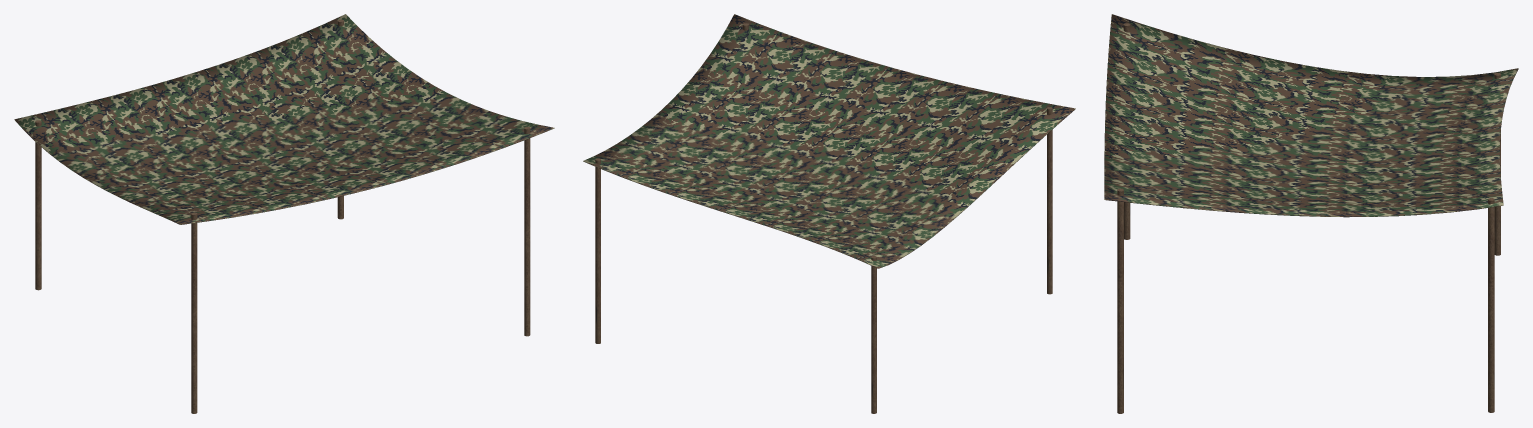
Rendered from tarp.glb.
3 renders of one model, left to right at view 1: azimuth 30°, elevation 25°; view 2: azimuth 150°, elevation 25°; view 3: azimuth 270°, elevation 25°, orthographic. The views are drawn at different scales.
Parts seen in each view (by area): view 1: SurfPatch, Post; view 2: SurfPatch, Post; view 3: SurfPatch, Post.
Boxes of the visible parts, <box> form: SurfPatch: <box>14,14,554,224</box>; Post: <box>35,19,530,413</box>; SurfPatch: <box>583,14,1075,268</box>; Post: <box>595,23,1052,413</box>; SurfPatch: <box>1104,14,1518,217</box>; Post: <box>1117,23,1500,413</box>.
Size of the model in its own units: 4.86 by 2.68 by 4.38.
2 materials, 2 textured.
